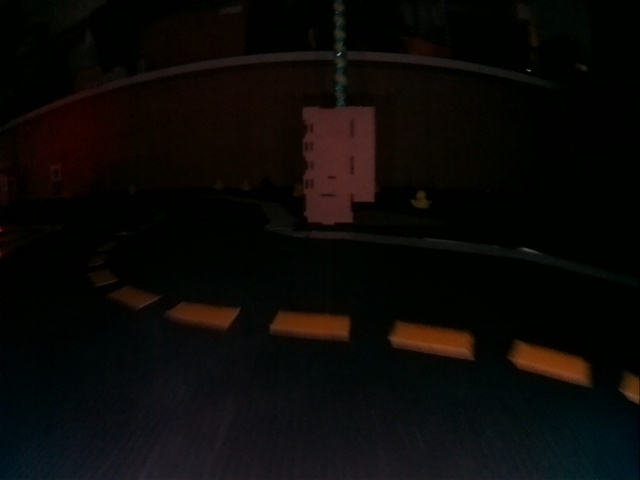Duckie: (411, 191, 430, 209), (294, 183, 303, 197), (242, 180, 251, 190), (214, 180, 223, 189)
